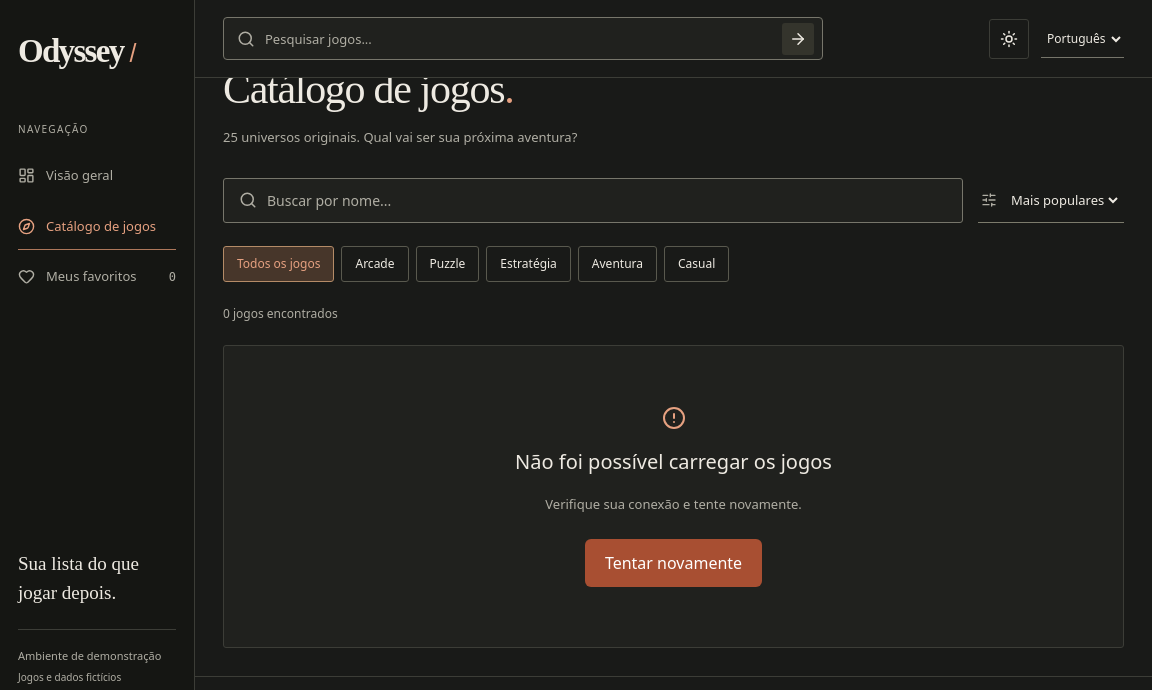
it: Odyssey › exibe erro da API e recupera com tentar novamente
(page scrolled)
Expected: the message "Não foi possível carregar os jogos Verifique sua conexão e tente novamente." is shown, [515, 406, 832, 513]
Click the button "Tentar novamente" at coordinates (674, 563), box [585, 539, 762, 587]
(page scrolled)
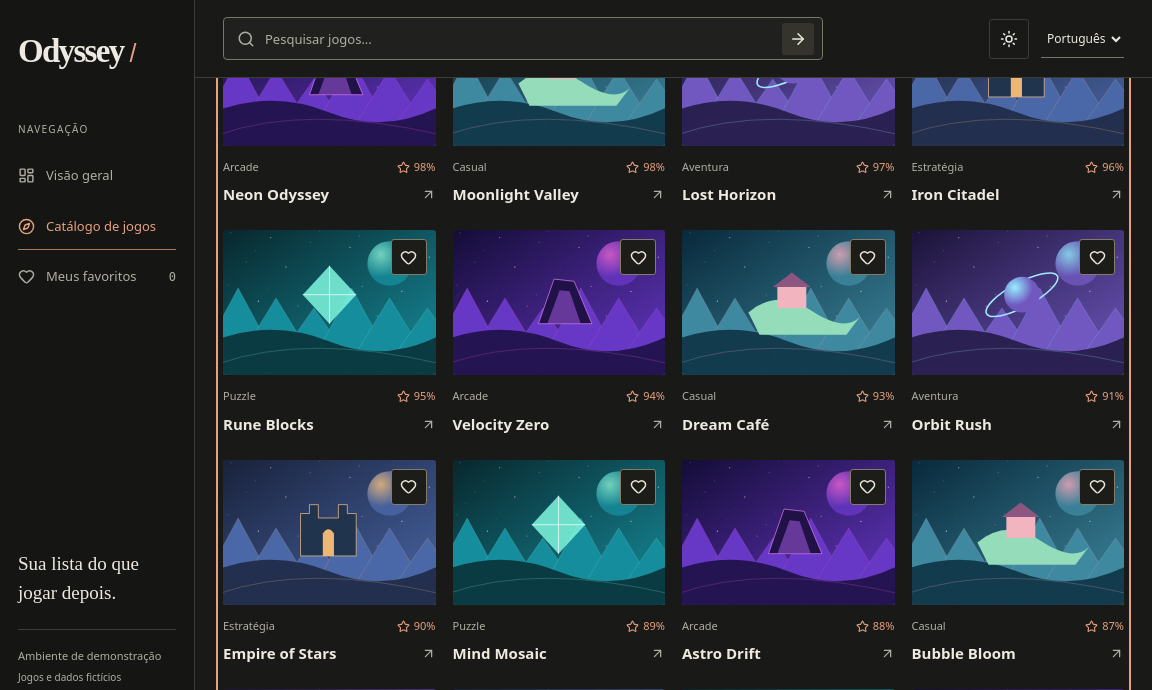
Now the link "Neon Odyssey" is shown, box [223, 184, 436, 205]
